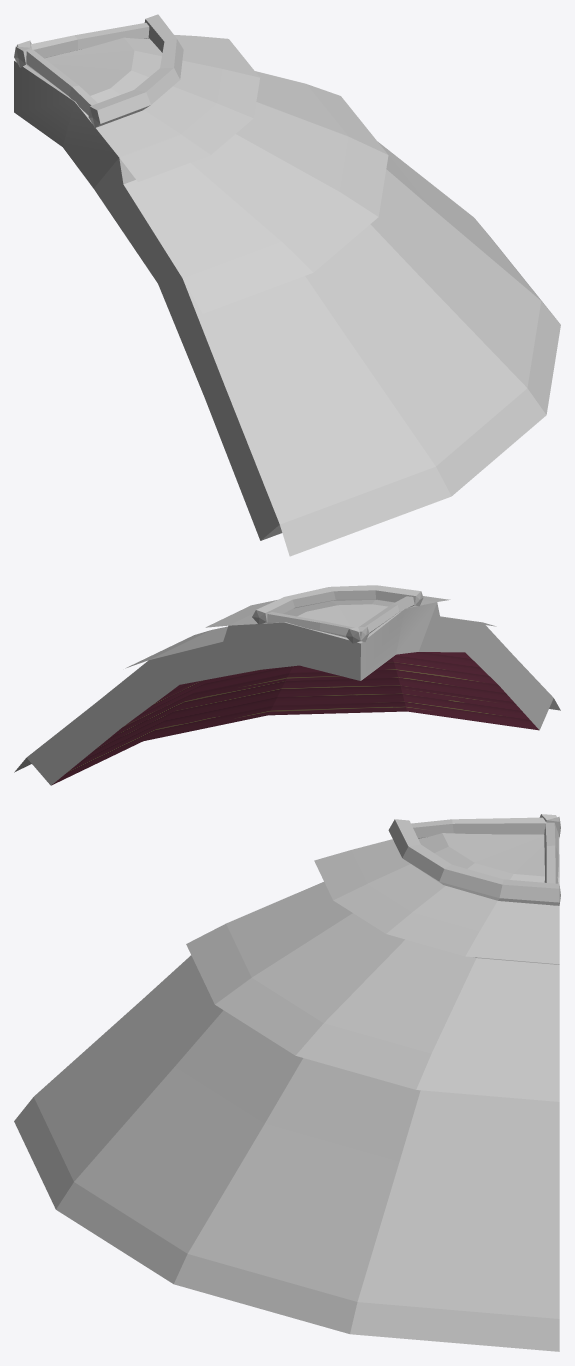
The model's file is SM_Bld_Roof_Thatch_Convex_Corner_01.fbx.
The picture shows the model from 3 angles, top to bottom: view 1: azimuth 30°, elevation 25°; view 2: azimuth 150°, elevation 25°; view 3: azimuth 270°, elevation 25°; orthographic projection. The views are drawn at different scales.
Visible parts, largest first — view 1: SM_Bld_Roof_Thatch_Convex_Corner_01; view 2: SM_Bld_Roof_Thatch_Convex_Corner_01; view 3: SM_Bld_Roof_Thatch_Convex_Corner_01.
Boxes of the visible parts, box(x1,y1,x2,y2) form: SM_Bld_Roof_Thatch_Convex_Corner_01: box(14, 14, 560, 556); SM_Bld_Roof_Thatch_Convex_Corner_01: box(14, 585, 560, 785); SM_Bld_Roof_Thatch_Convex_Corner_01: box(14, 814, 560, 1351).
Size of the model in its own units: 357 by 226 by 357.
